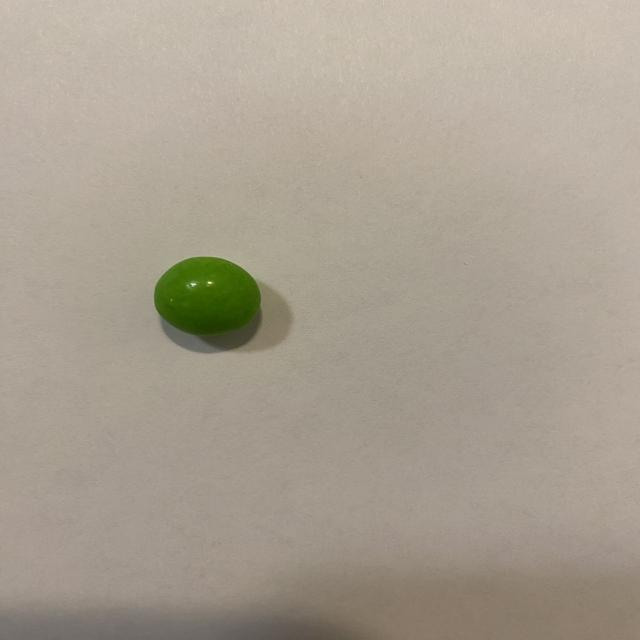smartie: (153, 257, 261, 337)
